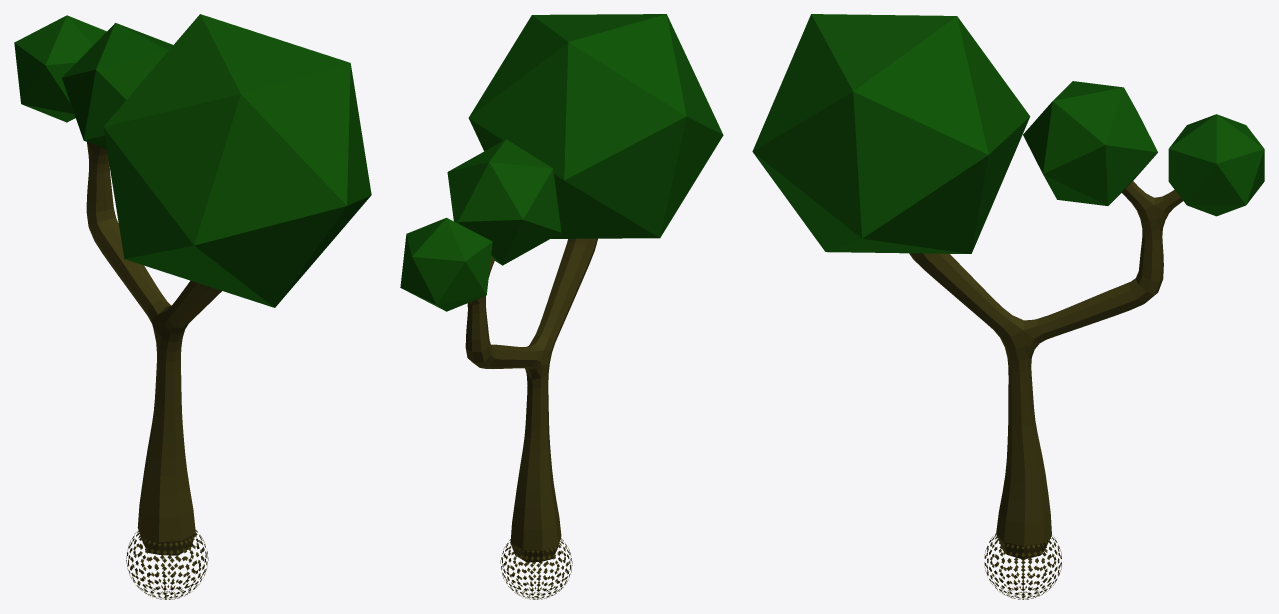
The model's file is _olytree.fbx.
The picture shows the model from 3 angles, left to right: view 1: azimuth 30°, elevation 25°; view 2: azimuth 150°, elevation 25°; view 3: azimuth 270°, elevation 25°; orthographic projection. The views are drawn at different scales.
Parts seen in each view (by area): view 1: Icosphere.001, Plane, Icosphere.002, Icosphere; view 2: Icosphere.001, Plane, Icosphere.002, Icosphere; view 3: Icosphere.001, Plane, Icosphere.002, Icosphere.
Part boxes in pixels (left/top/right/bottom): Icosphere.001: left=103, top=14, right=371, bottom=307; Plane: left=86, top=142, right=221, bottom=599; Icosphere.002: left=62, top=23, right=172, bottom=149; Icosphere: left=14, top=15, right=106, bottom=122; Icosphere.001: left=468, top=14, right=723, bottom=238; Plane: left=465, top=238, right=597, bottom=599; Icosphere.002: left=447, top=139, right=561, bottom=265; Icosphere: left=400, top=217, right=492, bottom=311; Icosphere.001: left=752, top=14, right=1030, bottom=253; Plane: left=909, top=181, right=1182, bottom=599; Icosphere.002: left=1023, top=81, right=1157, bottom=205; Icosphere: left=1168, top=114, right=1264, bottom=216.
Size of the model in its own units: 666 by 1629 by 1305.
